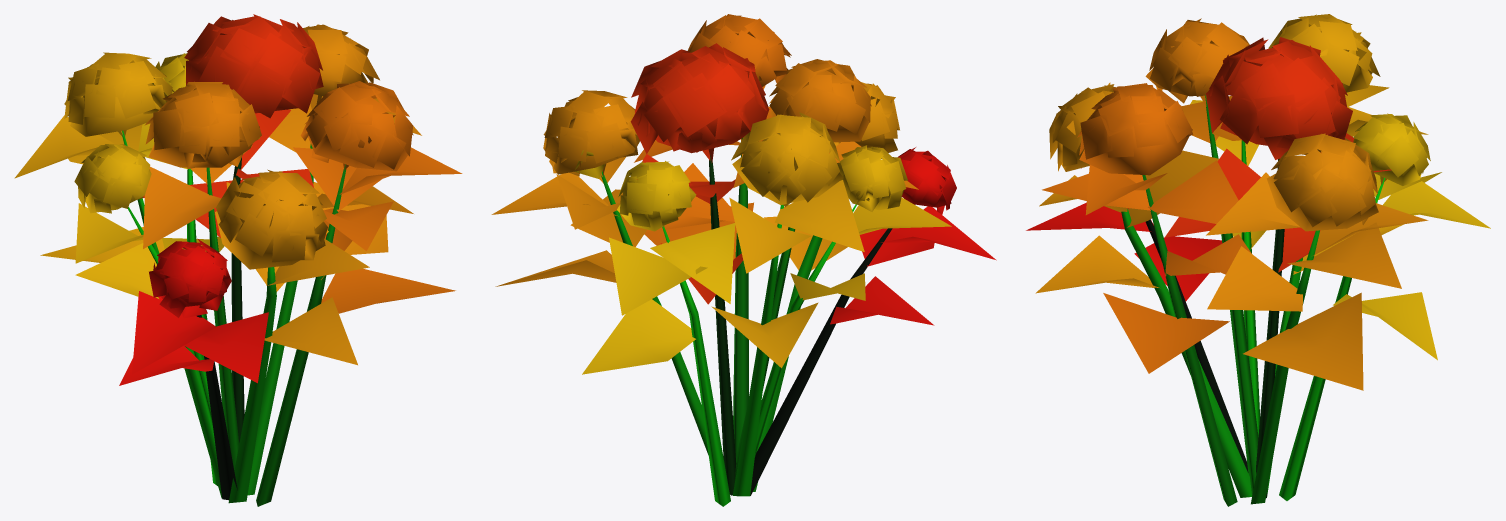
Rendered from G_Hydrangea_001_S1.fbx.
3 views of the same model, side by side, from view 1: azimuth 30°, elevation 25°; view 2: azimuth 150°, elevation 25°; view 3: azimuth 270°, elevation 25° (orthographic). The views are drawn at different scales.
Visible parts, largest first — view 1: G_Hydrangea_001_S1_P01_LOD0; view 2: G_Hydrangea_001_S1_P01_LOD0; view 3: G_Hydrangea_001_S1_P01_LOD0.
Boxes of the visible parts, x1,y1,x2,y2 form: G_Hydrangea_001_S1_P01_LOD0: (14, 14, 462, 506); G_Hydrangea_001_S1_P01_LOD0: (491, 14, 996, 506); G_Hydrangea_001_S1_P01_LOD0: (1026, 14, 1490, 506).
Size of what is drawn, in the model's own units: 141 by 157 by 144.
